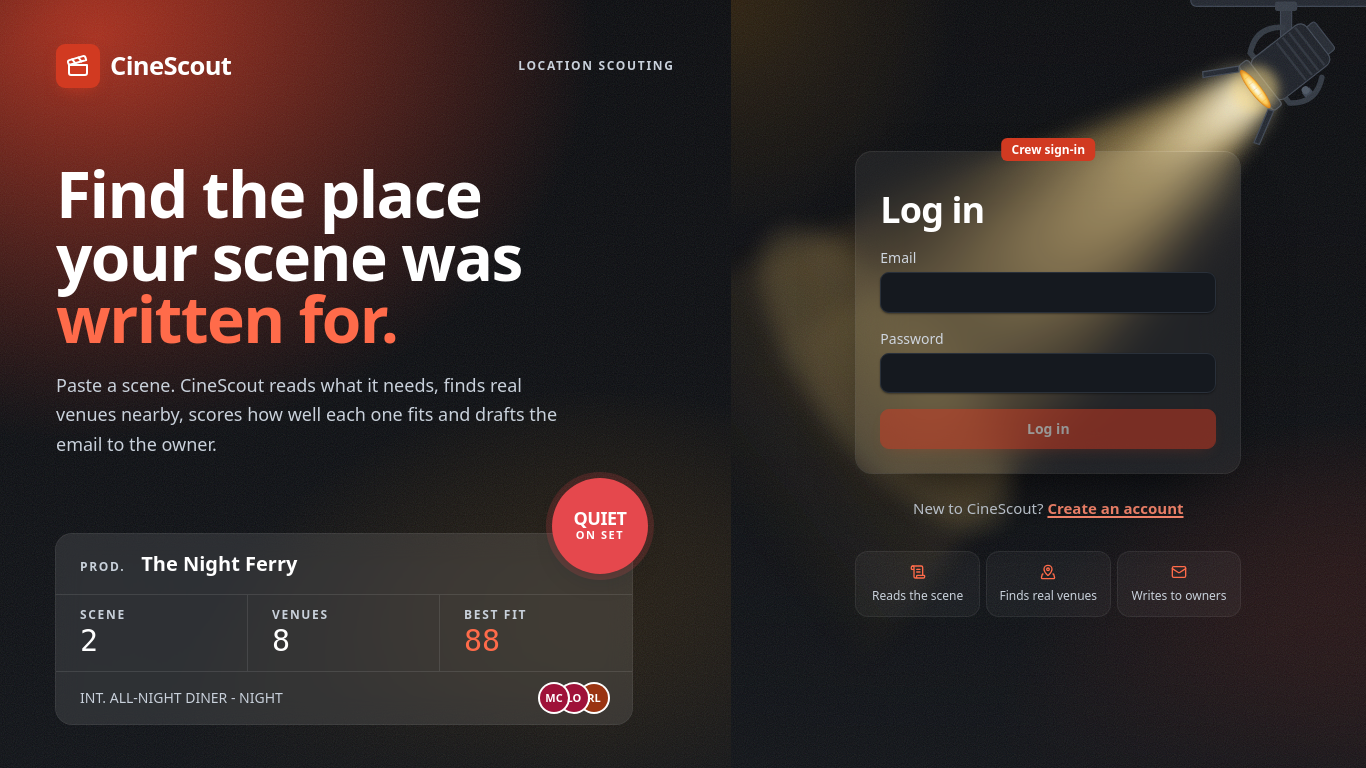
Scenario: the crew page › gives the owner a link to pass on for someone without an account, and lists open invites to withdraw
Type "ada@example.com" into the field labelled "Email" at (1048, 293), box [880,272,1216,313]
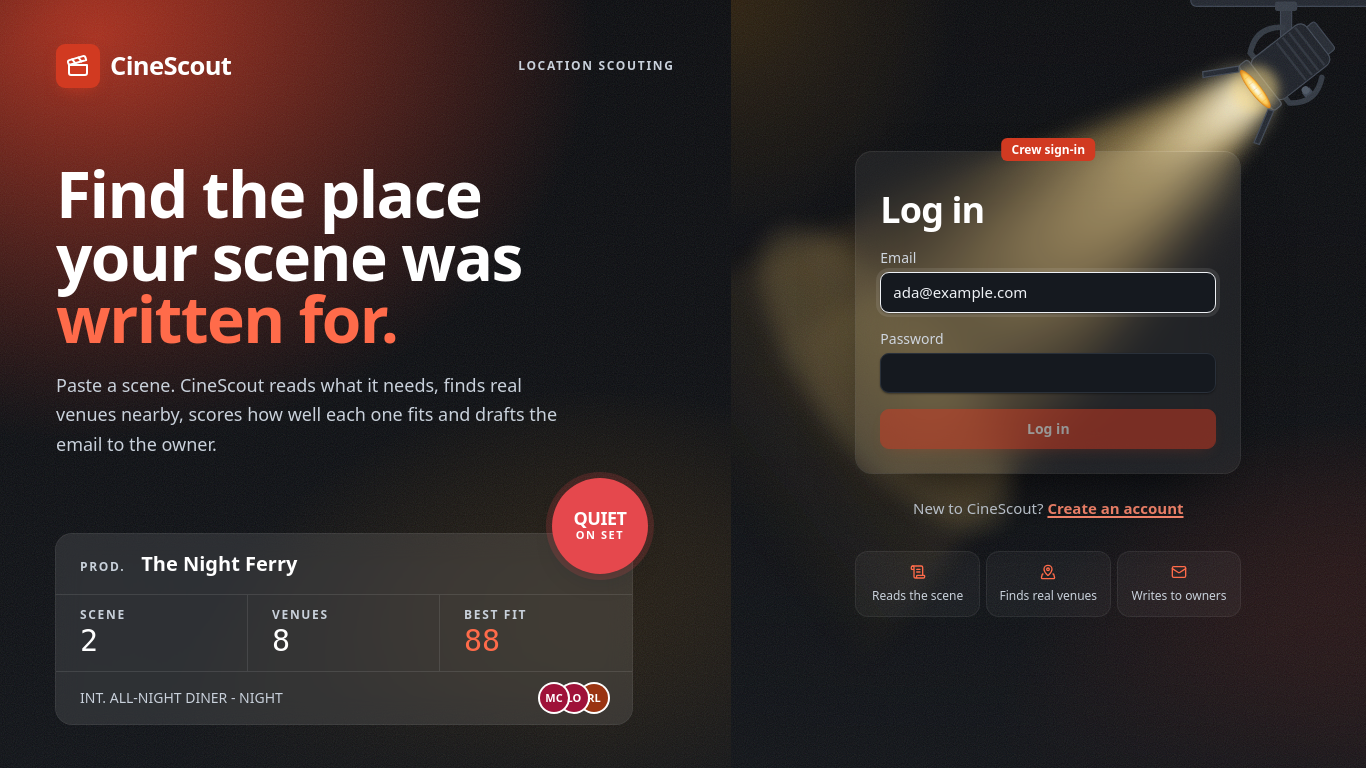
Type "a-long-password" into the password field labelled "Password" at (1048, 373), box [880,353,1216,393]
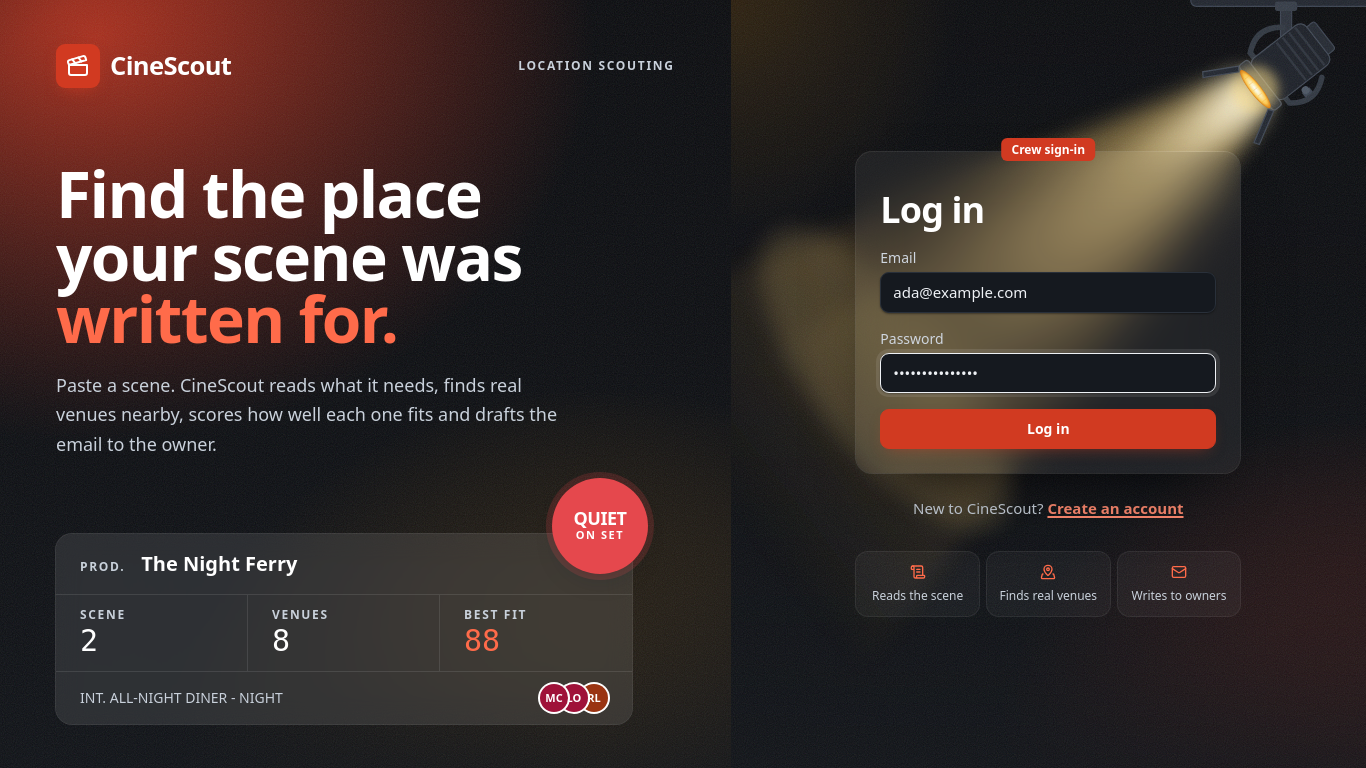
Click the button "Log in" at (1048, 429), box [880,409,1216,449]
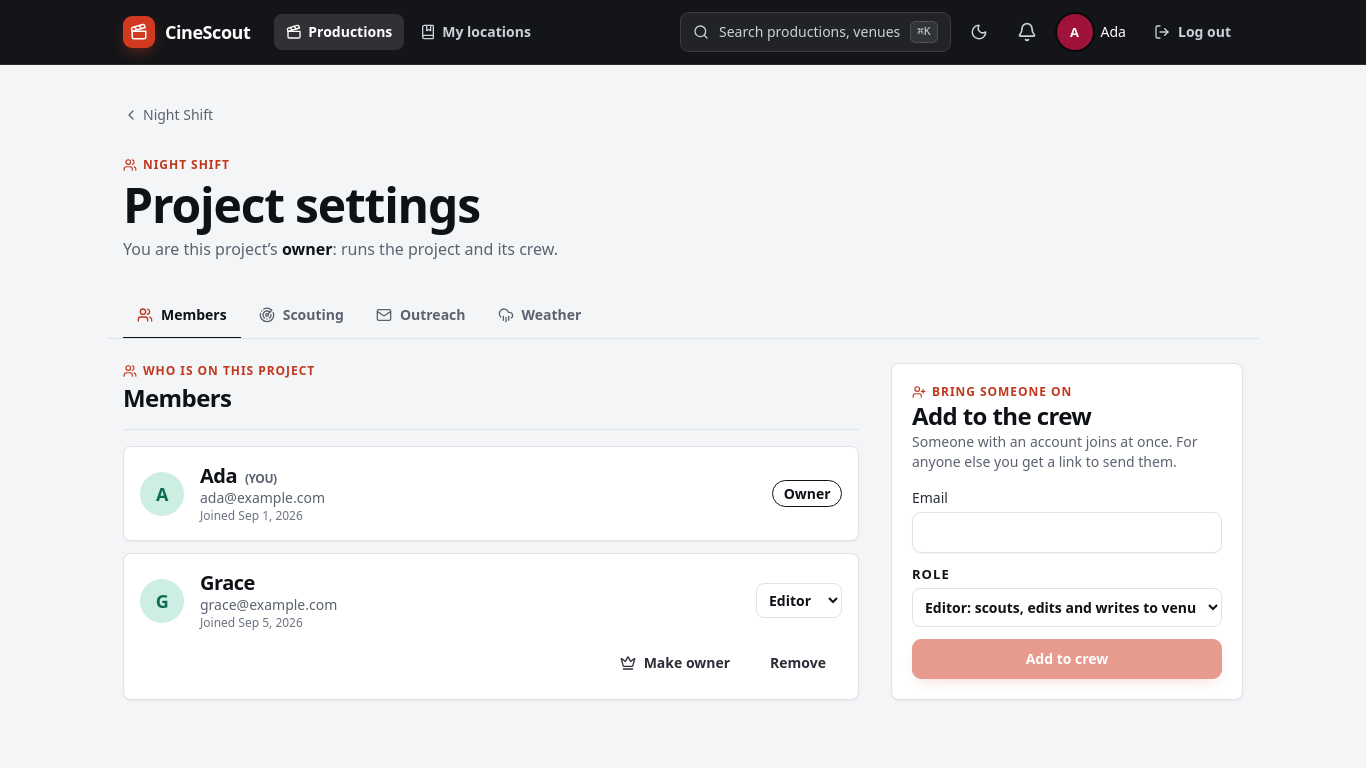
Type "new@example.com" into the field labelled "Email" at (1067, 532), box [912,512,1222,552]
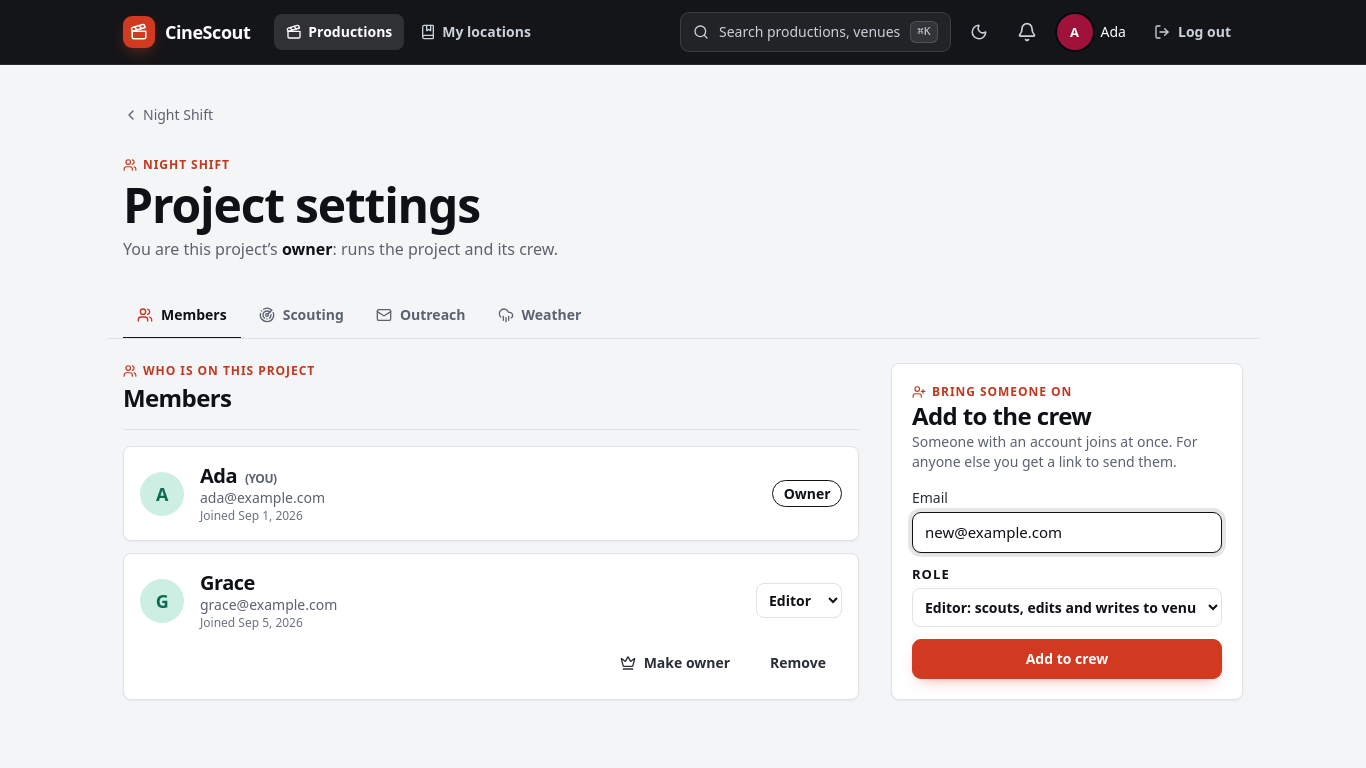
Click the button "Add to crew" at (1067, 659), box [912,639,1222,679]
(page scrolled)
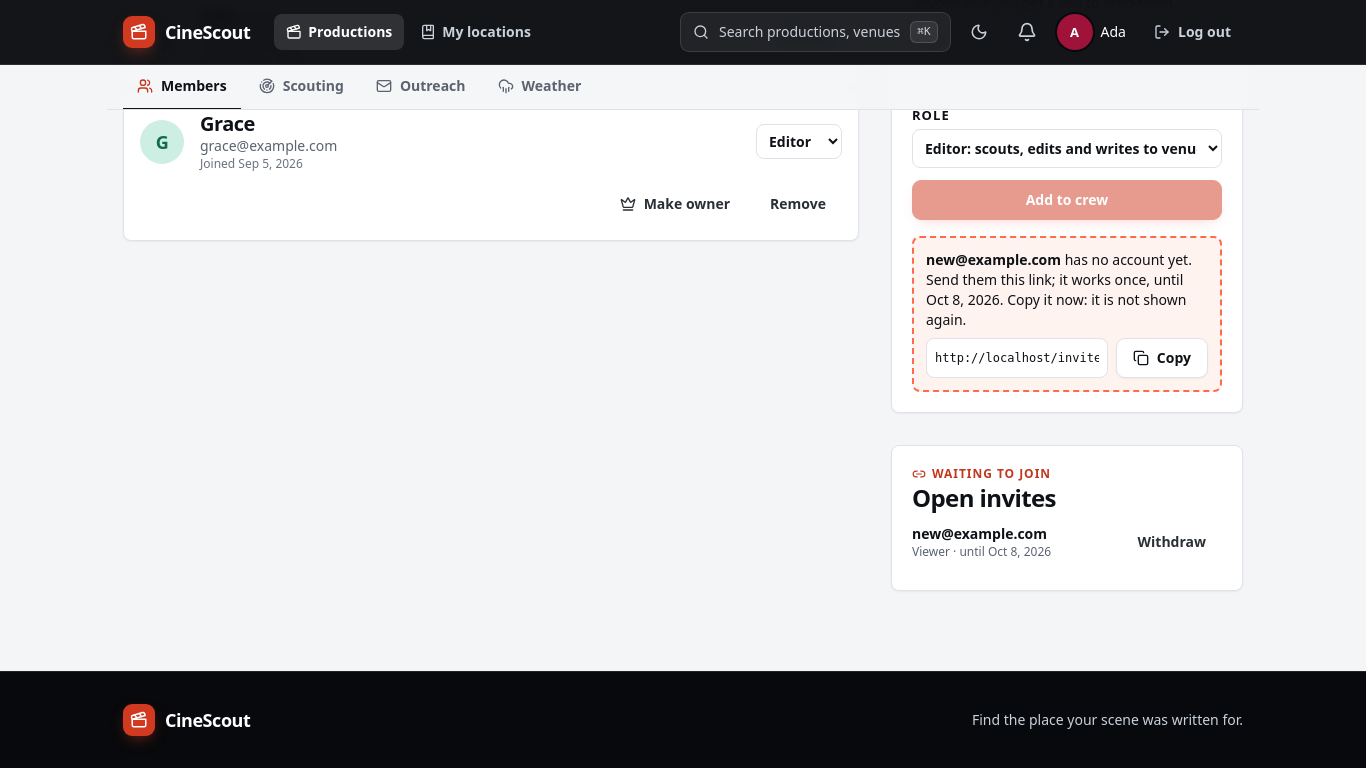
Now the text "new@example.com" below "Open invites" is shown, box [912,524,1047,543]
Click the button named "Withdraw the invite to new@example.com" at (1172, 542), box [1122,522,1222,562]
(page scrolled)
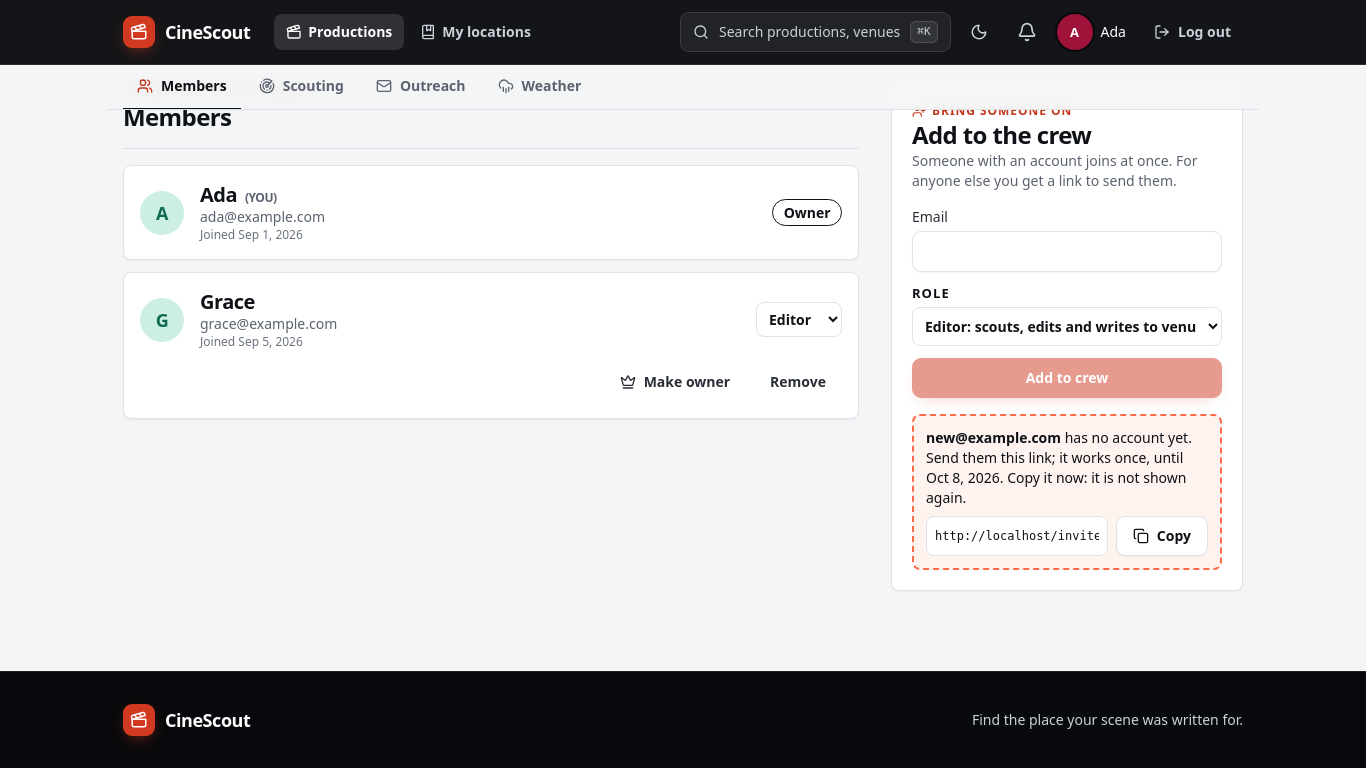
Now the heading "Open invites" is gone
